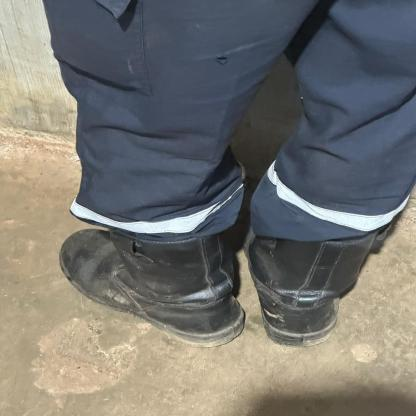bota: (62, 200, 251, 350), (254, 200, 392, 344)
